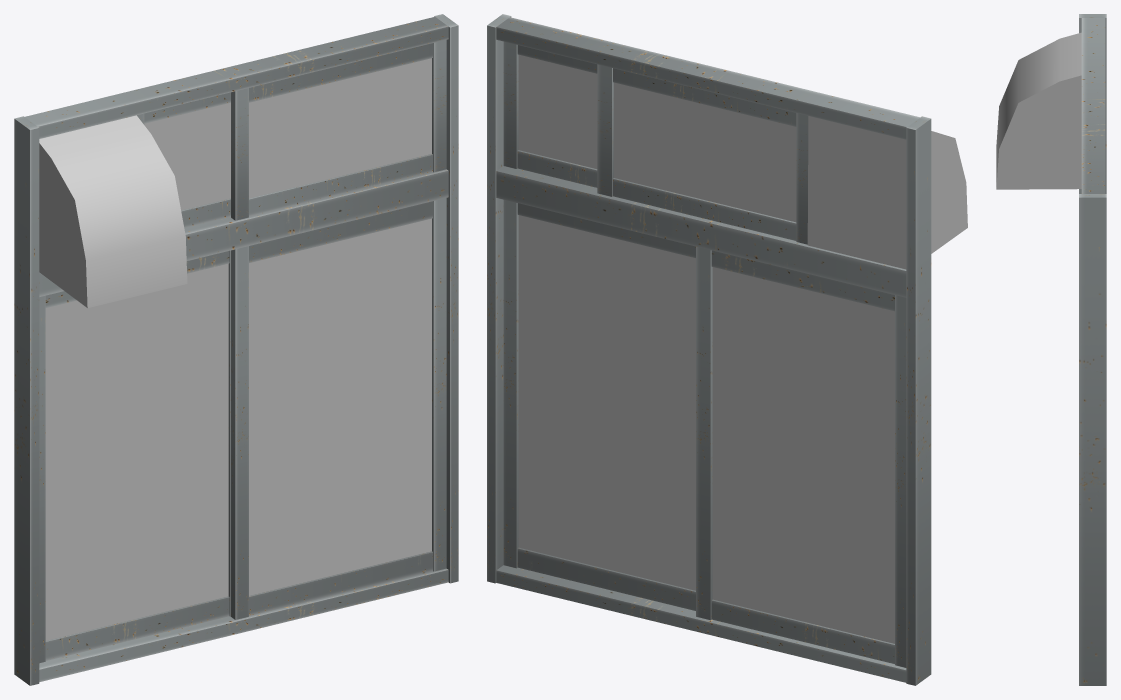
Rendered from bil_window_b1_3.fbx.
The picture shows the model from 3 angles, left to right: view 1: azimuth 30°, elevation 25°; view 2: azimuth 150°, elevation 25°; view 3: azimuth 270°, elevation 25°; orthographic projection. The views are drawn at different scales.
Parts seen in each view (by area): view 1: bil_window_b1_3; view 2: bil_window_b1_3; view 3: bil_window_b1_3.
Part boxes in pixels (x1,y1,x2,y2): bil_window_b1_3: (14,14,458,685); bil_window_b1_3: (487,14,967,685); bil_window_b1_3: (996,14,1106,685).
Bounding box in the file's own units: 183 × 227 × 46.55.
